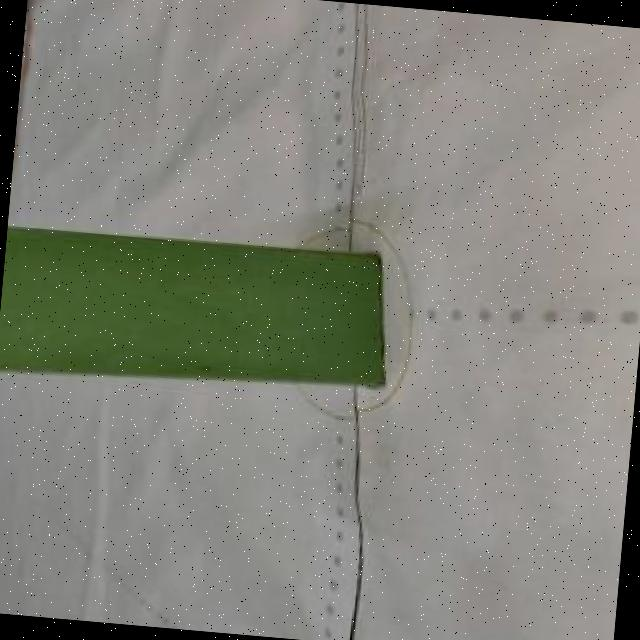greenbox: (0, 202, 395, 413)
